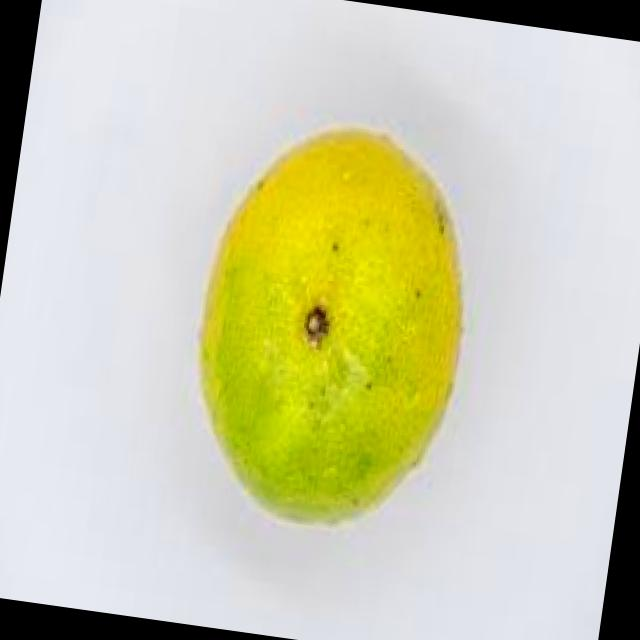Fresh_Orange: (161, 106, 494, 544)
